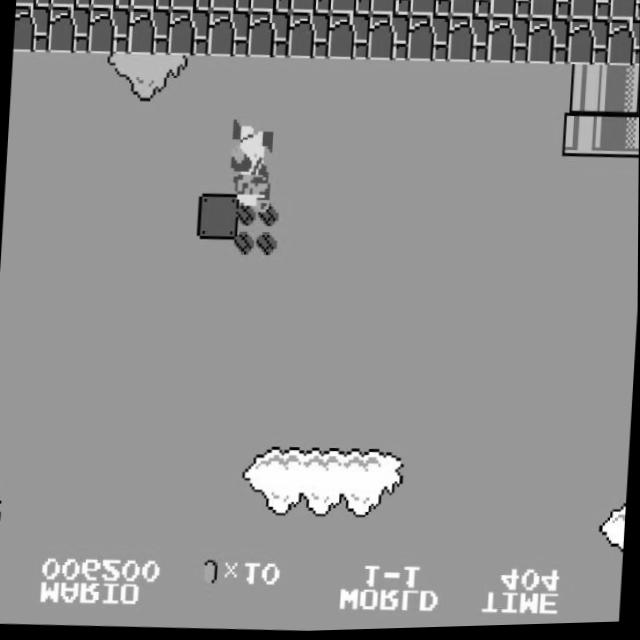14- pipe: (564, 67, 608, 116), (604, 68, 640, 117)
15- pipe_head: (561, 112, 605, 161), (601, 113, 639, 162)
17- undestructible_block: (48, 6, 91, 55), (88, 7, 131, 56), (128, 8, 171, 57), (168, 10, 211, 59), (208, 11, 251, 60), (248, 12, 291, 61), (288, 13, 331, 62), (328, 14, 371, 63), (368, 15, 411, 64), (407, 17, 450, 66), (447, 18, 490, 67), (487, 19, 530, 68), (527, 20, 570, 69), (567, 21, 610, 70), (14, 5, 51, 54), (607, 22, 640, 71), (570, 0, 612, 25), (530, 0, 572, 23), (490, 0, 532, 22), (450, 0, 492, 21), (410, 0, 452, 20), (609, 0, 640, 26), (370, 0, 412, 19), (330, 0, 372, 17), (290, 0, 332, 16), (250, 0, 292, 15), (210, 0, 252, 14), (170, 0, 212, 13), (130, 0, 172, 11), (90, 0, 132, 10), (50, 0, 92, 9), (16, 0, 52, 8)
3- empty_block: (197, 193, 240, 242)
4- fire_mario: (226, 120, 274, 217)
